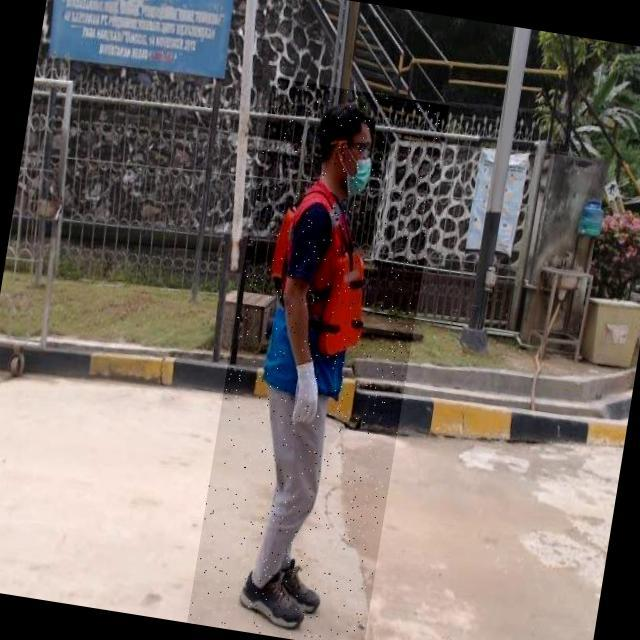Human: (187, 77, 449, 640)
Safety Boot: (236, 562, 313, 634), (267, 555, 327, 624)
Safety Vest: (257, 175, 386, 404)
